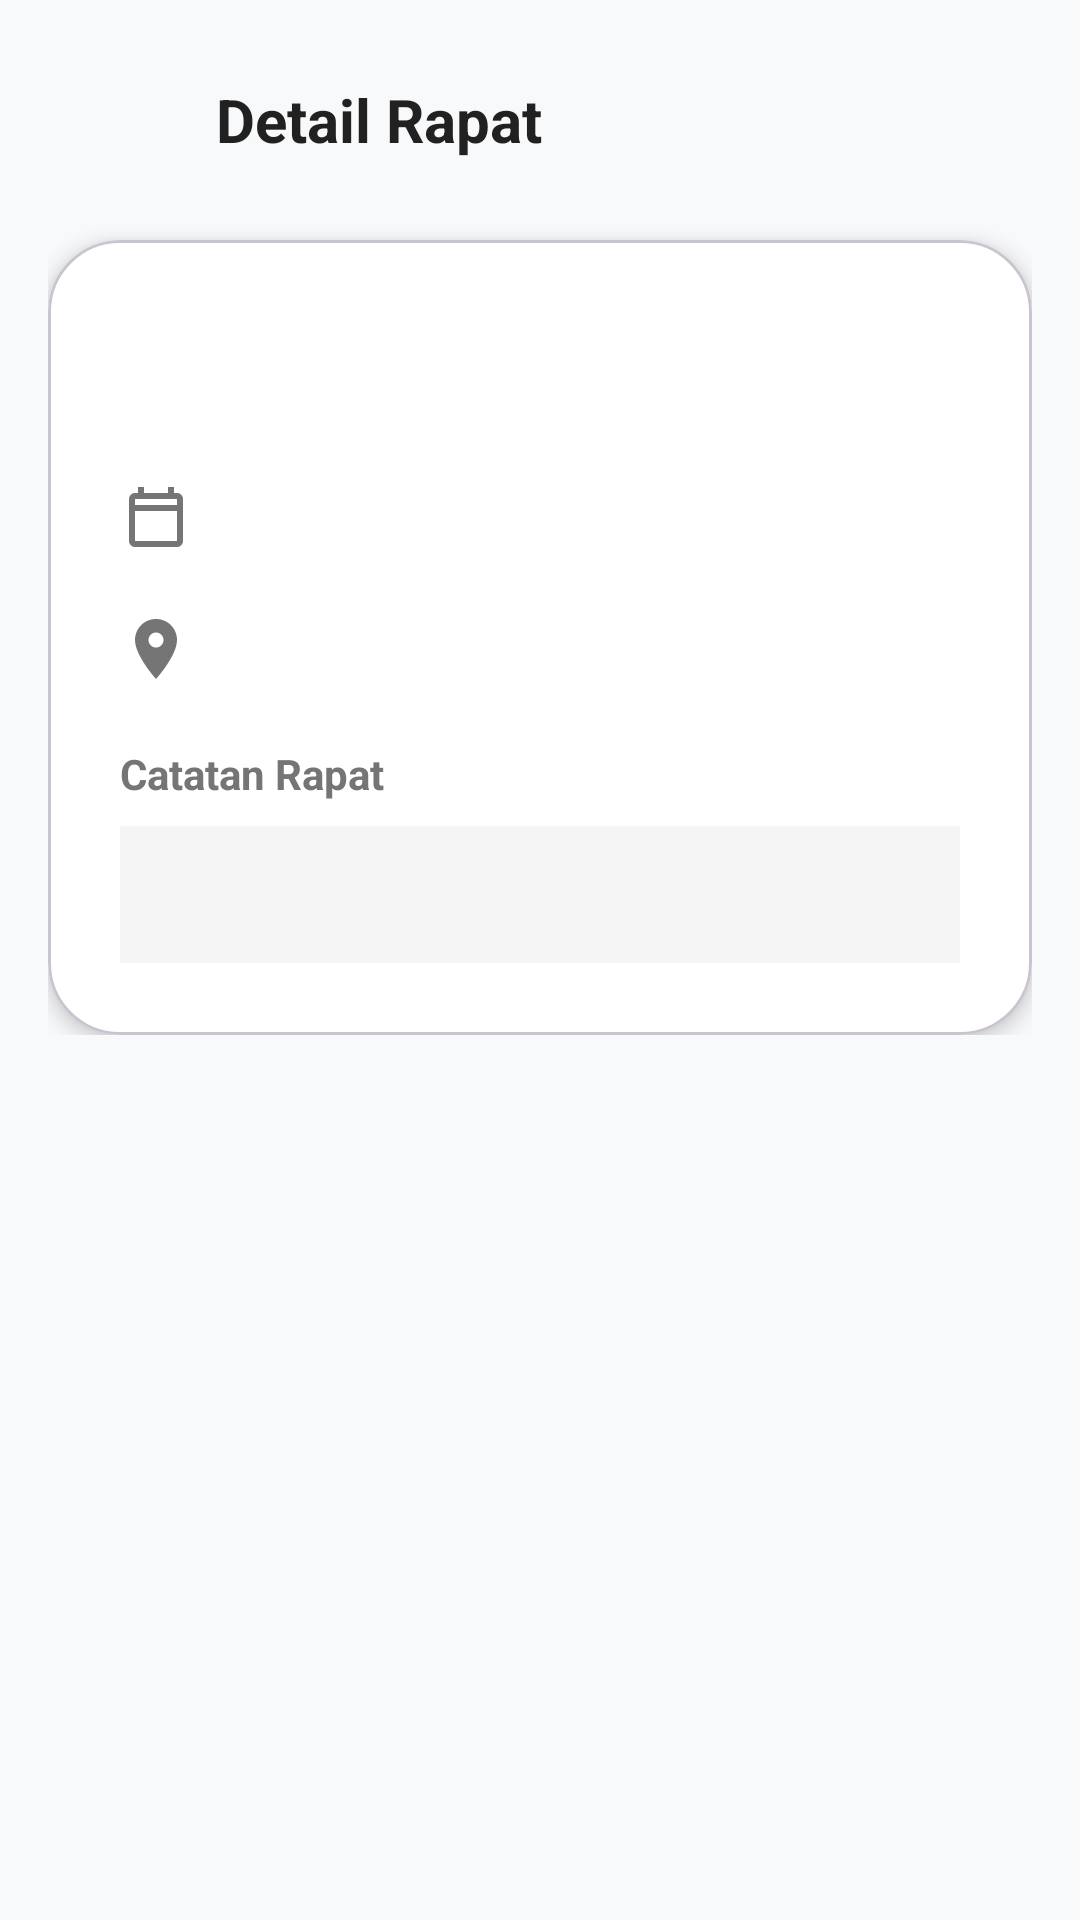

Point at icon controls on the screen. Image size 1080px x 1920px, points as point (x, y).
Icon Kalender: point (156, 517)
Icon Lokasi: point (156, 649)
